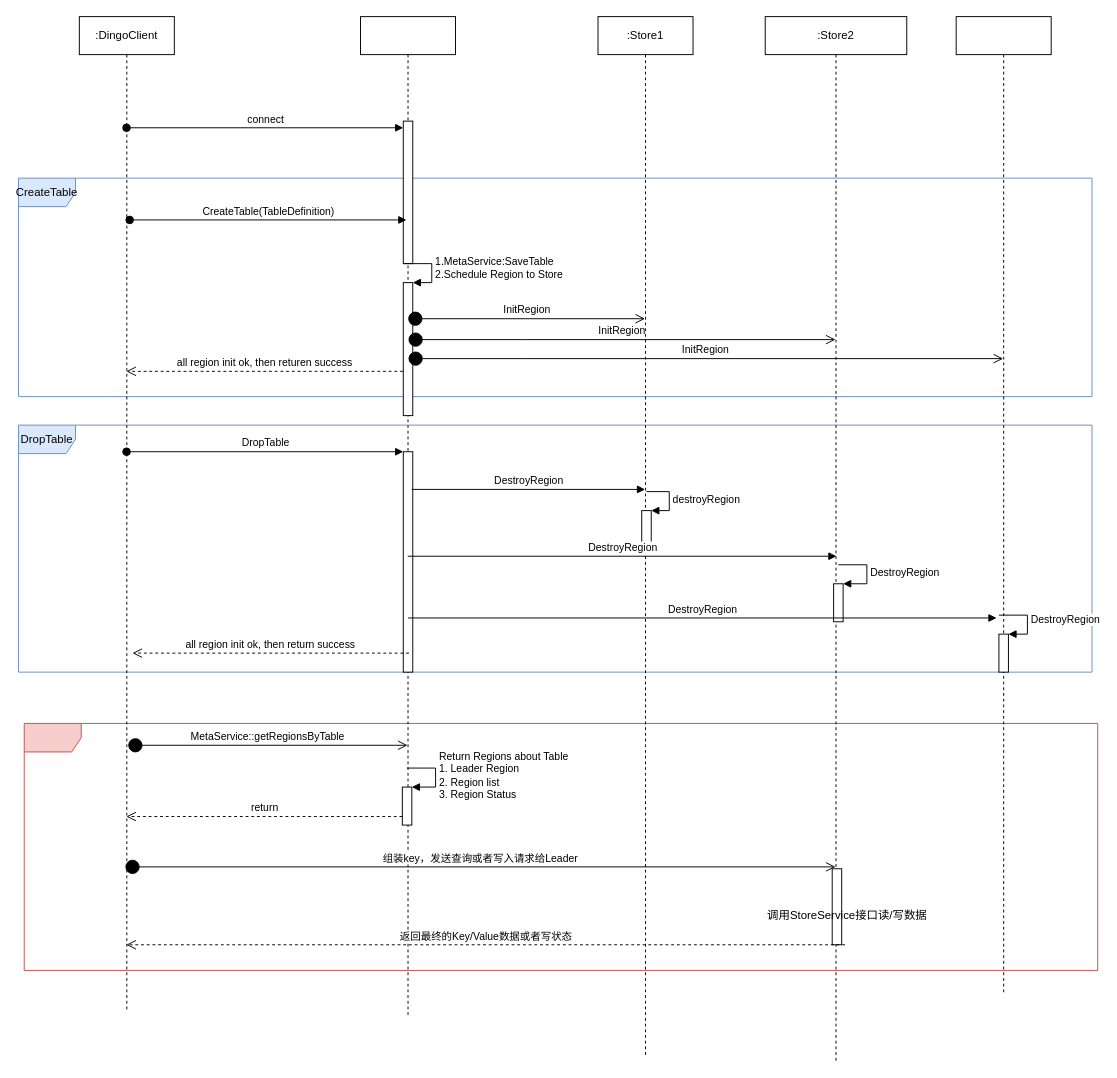
Some shapes in this 1117 by 1078 pixel diagram are drawn without their labels. Each missing label, with the box of its shape:
:Coordinator: (360, 16, 456, 1017)
:Store3: (955, 16, 1051, 993)
Get/Put: (23, 722, 1098, 970)
